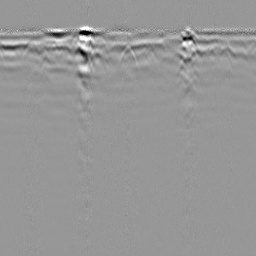cavity: (117, 43, 139, 69)
